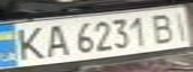1: (127, 14, 154, 47)
2: (90, 17, 115, 53)
3: (109, 16, 133, 50)
6: (72, 19, 96, 55)
A: (39, 21, 72, 59)
B: (148, 11, 181, 44)
I: (169, 9, 193, 42)
K: (9, 24, 48, 62)
